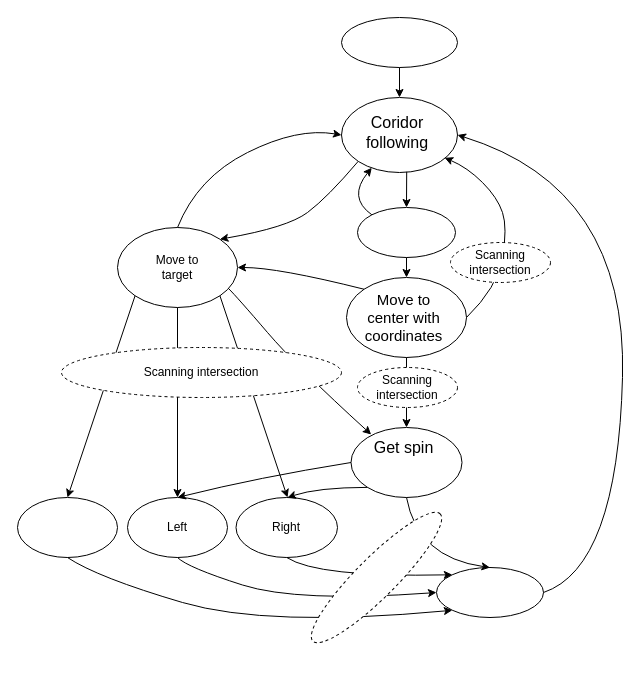
Image size: 641x673. Some labels were removed from this diagram. The box of each missing label's shape, as (x1, y1, x2, y2) in pixels:
Around: (16, 496, 118, 558)
Calibration: (340, 16, 458, 68)
Little go: (436, 566, 544, 618)
Reset coordinates: (356, 206, 456, 258)
Setting imu: (298, 498, 454, 656)
